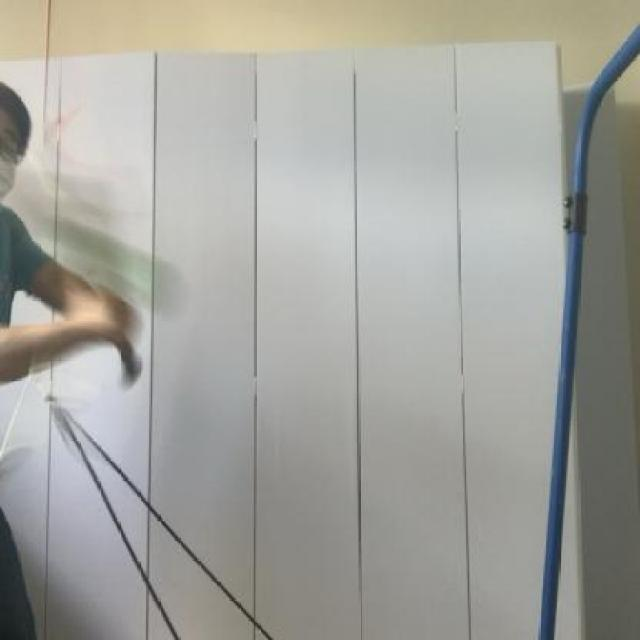baseball: (47, 210, 191, 336)
